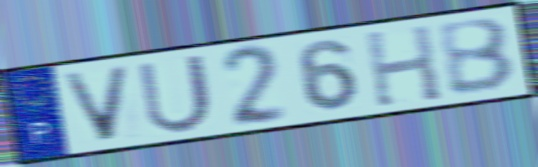2: (219, 40, 291, 134)
6: (294, 37, 359, 115)
B: (434, 15, 519, 98)
H: (362, 22, 446, 110)
U: (134, 51, 216, 136)
V: (58, 63, 135, 144)
